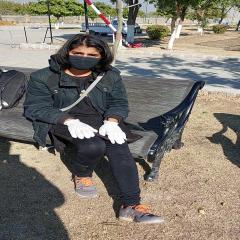gloved: (101, 121, 128, 145), (64, 120, 98, 139)
